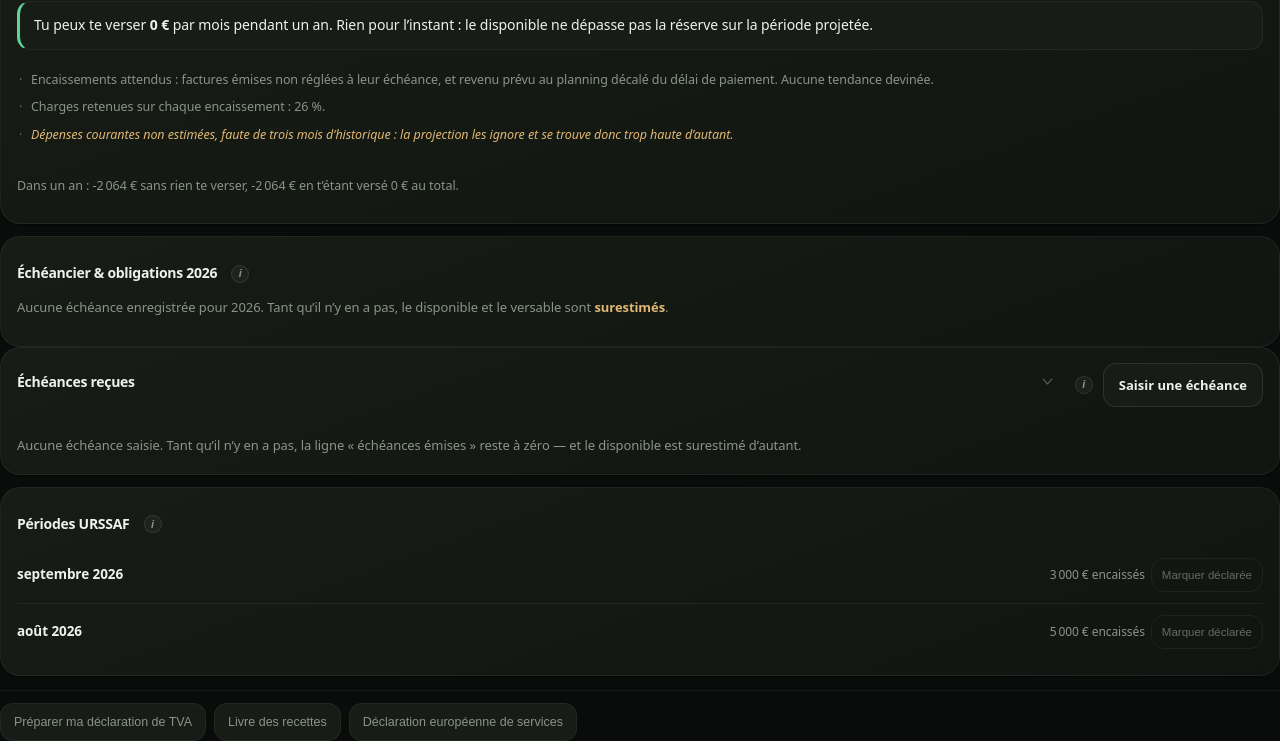
dossier de déclaration de TVA › signale les encaissements dont la TVA n’a pas été conservée
(page scrolled)
Click the button "Préparer ma déclaration de TVA": (103, 722) [0,702,206,740]
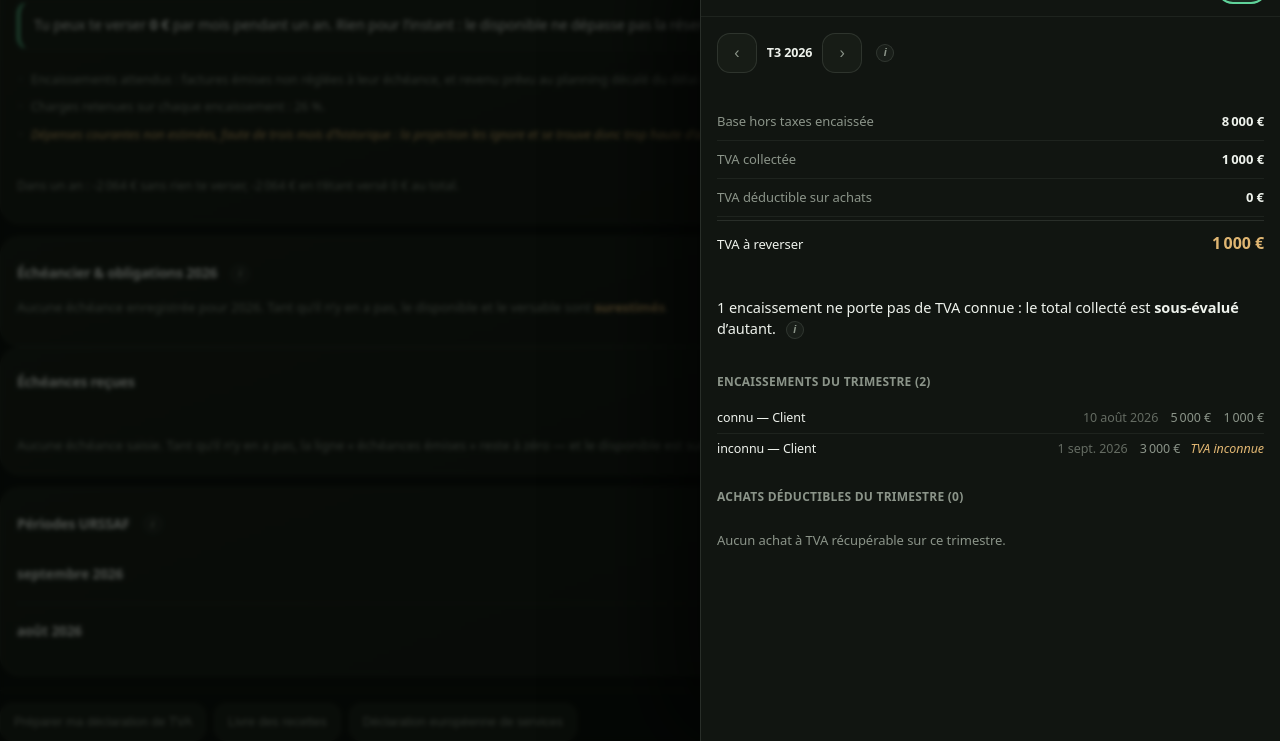
Now the text "sous-évalué" is shown, box [1154,297,1239,317]
Now the text "TVA inconnue" is shown, box [1190,440,1264,457]
